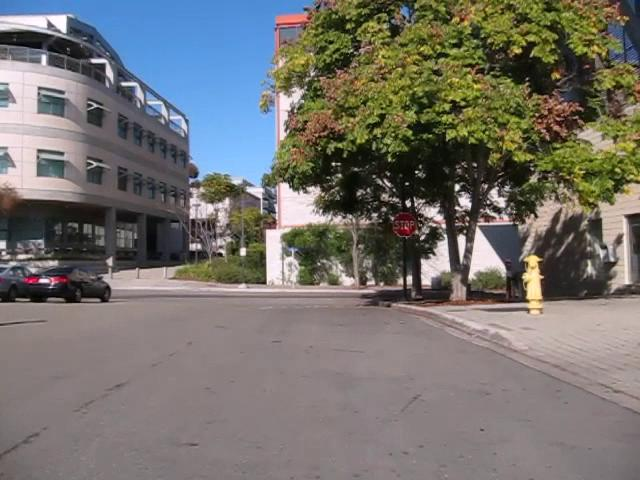stop: (391, 211, 417, 238)
